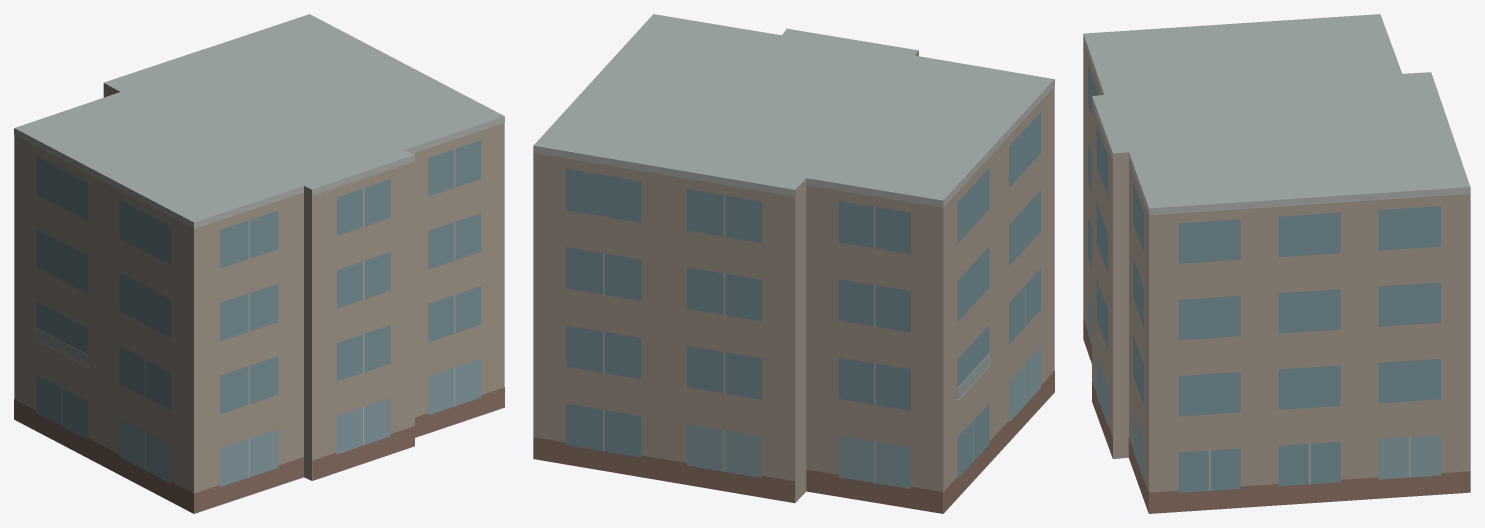
The model's file is survey-upis-32575907.glb.
3 renders of one model, left to right at view 1: azimuth 30°, elevation 25°; view 2: azimuth 150°, elevation 25°; view 3: azimuth 270°, elevation 25°, orthographic. The views are drawn at different scales.
Parts seen in each view (by area): view 1: survey-upis-32575907.tmp; view 2: survey-upis-32575907.tmp; view 3: survey-upis-32575907.tmp.
Part boxes in pixels (<box>): survey-upis-32575907.tmp: <box>14,14,504,513</box>; survey-upis-32575907.tmp: <box>533,14,1054,513</box>; survey-upis-32575907.tmp: <box>1083,14,1470,513</box>.
Bounding box in the file's own units: 14.82 × 10.85 × 12.47.
